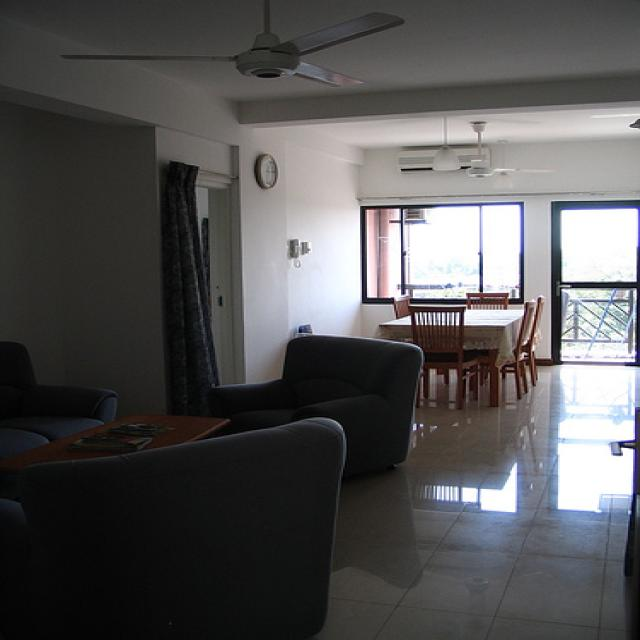chair: (1, 417, 344, 640), (208, 335, 419, 479), (409, 308, 480, 408), (515, 302, 542, 398), (467, 292, 511, 311), (392, 297, 409, 319)
diningtable: (380, 309, 525, 407)
sofa: (1, 346, 119, 461)
